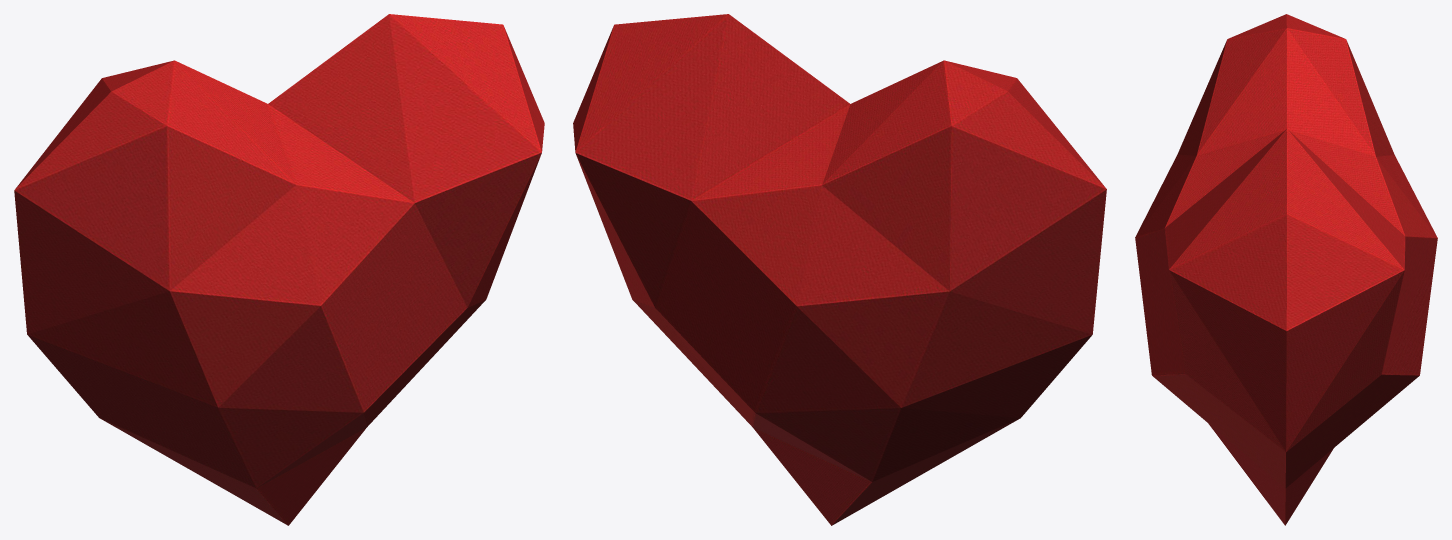
Rendered from heart.fbx.
3 views of the same model, side by side, from view 1: azimuth 30°, elevation 25°; view 2: azimuth 150°, elevation 25°; view 3: azimuth 270°, elevation 25° (orthographic). The views are drawn at different scales.
Parts seen in each view (by area): view 1: heart; view 2: heart; view 3: heart.
Part boxes in pixels (bbox=[...]): heart: bbox=[14, 14, 544, 525]; heart: bbox=[573, 14, 1106, 525]; heart: bbox=[1135, 14, 1437, 525].
Bounding box in the file's own units: 5.07 × 4.49 × 2.75.
Materials: 1 (1 with a texture image).
